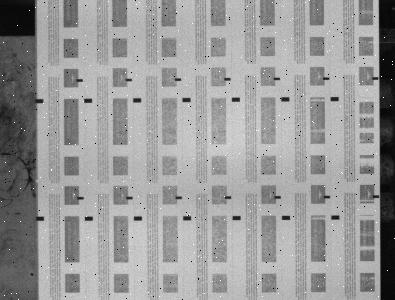backgroundclutter: (30, 272, 34, 276), (36, 179, 39, 182)
qblock: (282, 215, 291, 220), (36, 216, 45, 221), (183, 97, 191, 102), (84, 98, 92, 103), (232, 97, 240, 102), (183, 216, 192, 220), (331, 215, 340, 219), (133, 98, 142, 102), (35, 99, 44, 103), (331, 97, 340, 101), (85, 216, 93, 220), (134, 216, 142, 220), (233, 216, 241, 220), (282, 97, 290, 101)
smallqblock: (126, 196, 133, 200), (275, 195, 282, 199), (78, 196, 84, 200), (225, 77, 231, 81), (225, 196, 232, 199), (373, 77, 380, 80), (324, 195, 331, 198), (76, 79, 83, 82), (175, 78, 182, 81), (274, 77, 281, 80), (176, 196, 182, 199), (324, 77, 330, 80), (126, 78, 132, 81), (374, 195, 380, 198)
